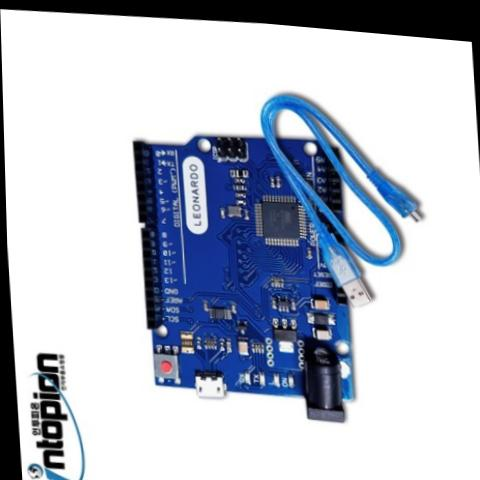Arduino-Leonardo: (127, 111, 361, 424)
